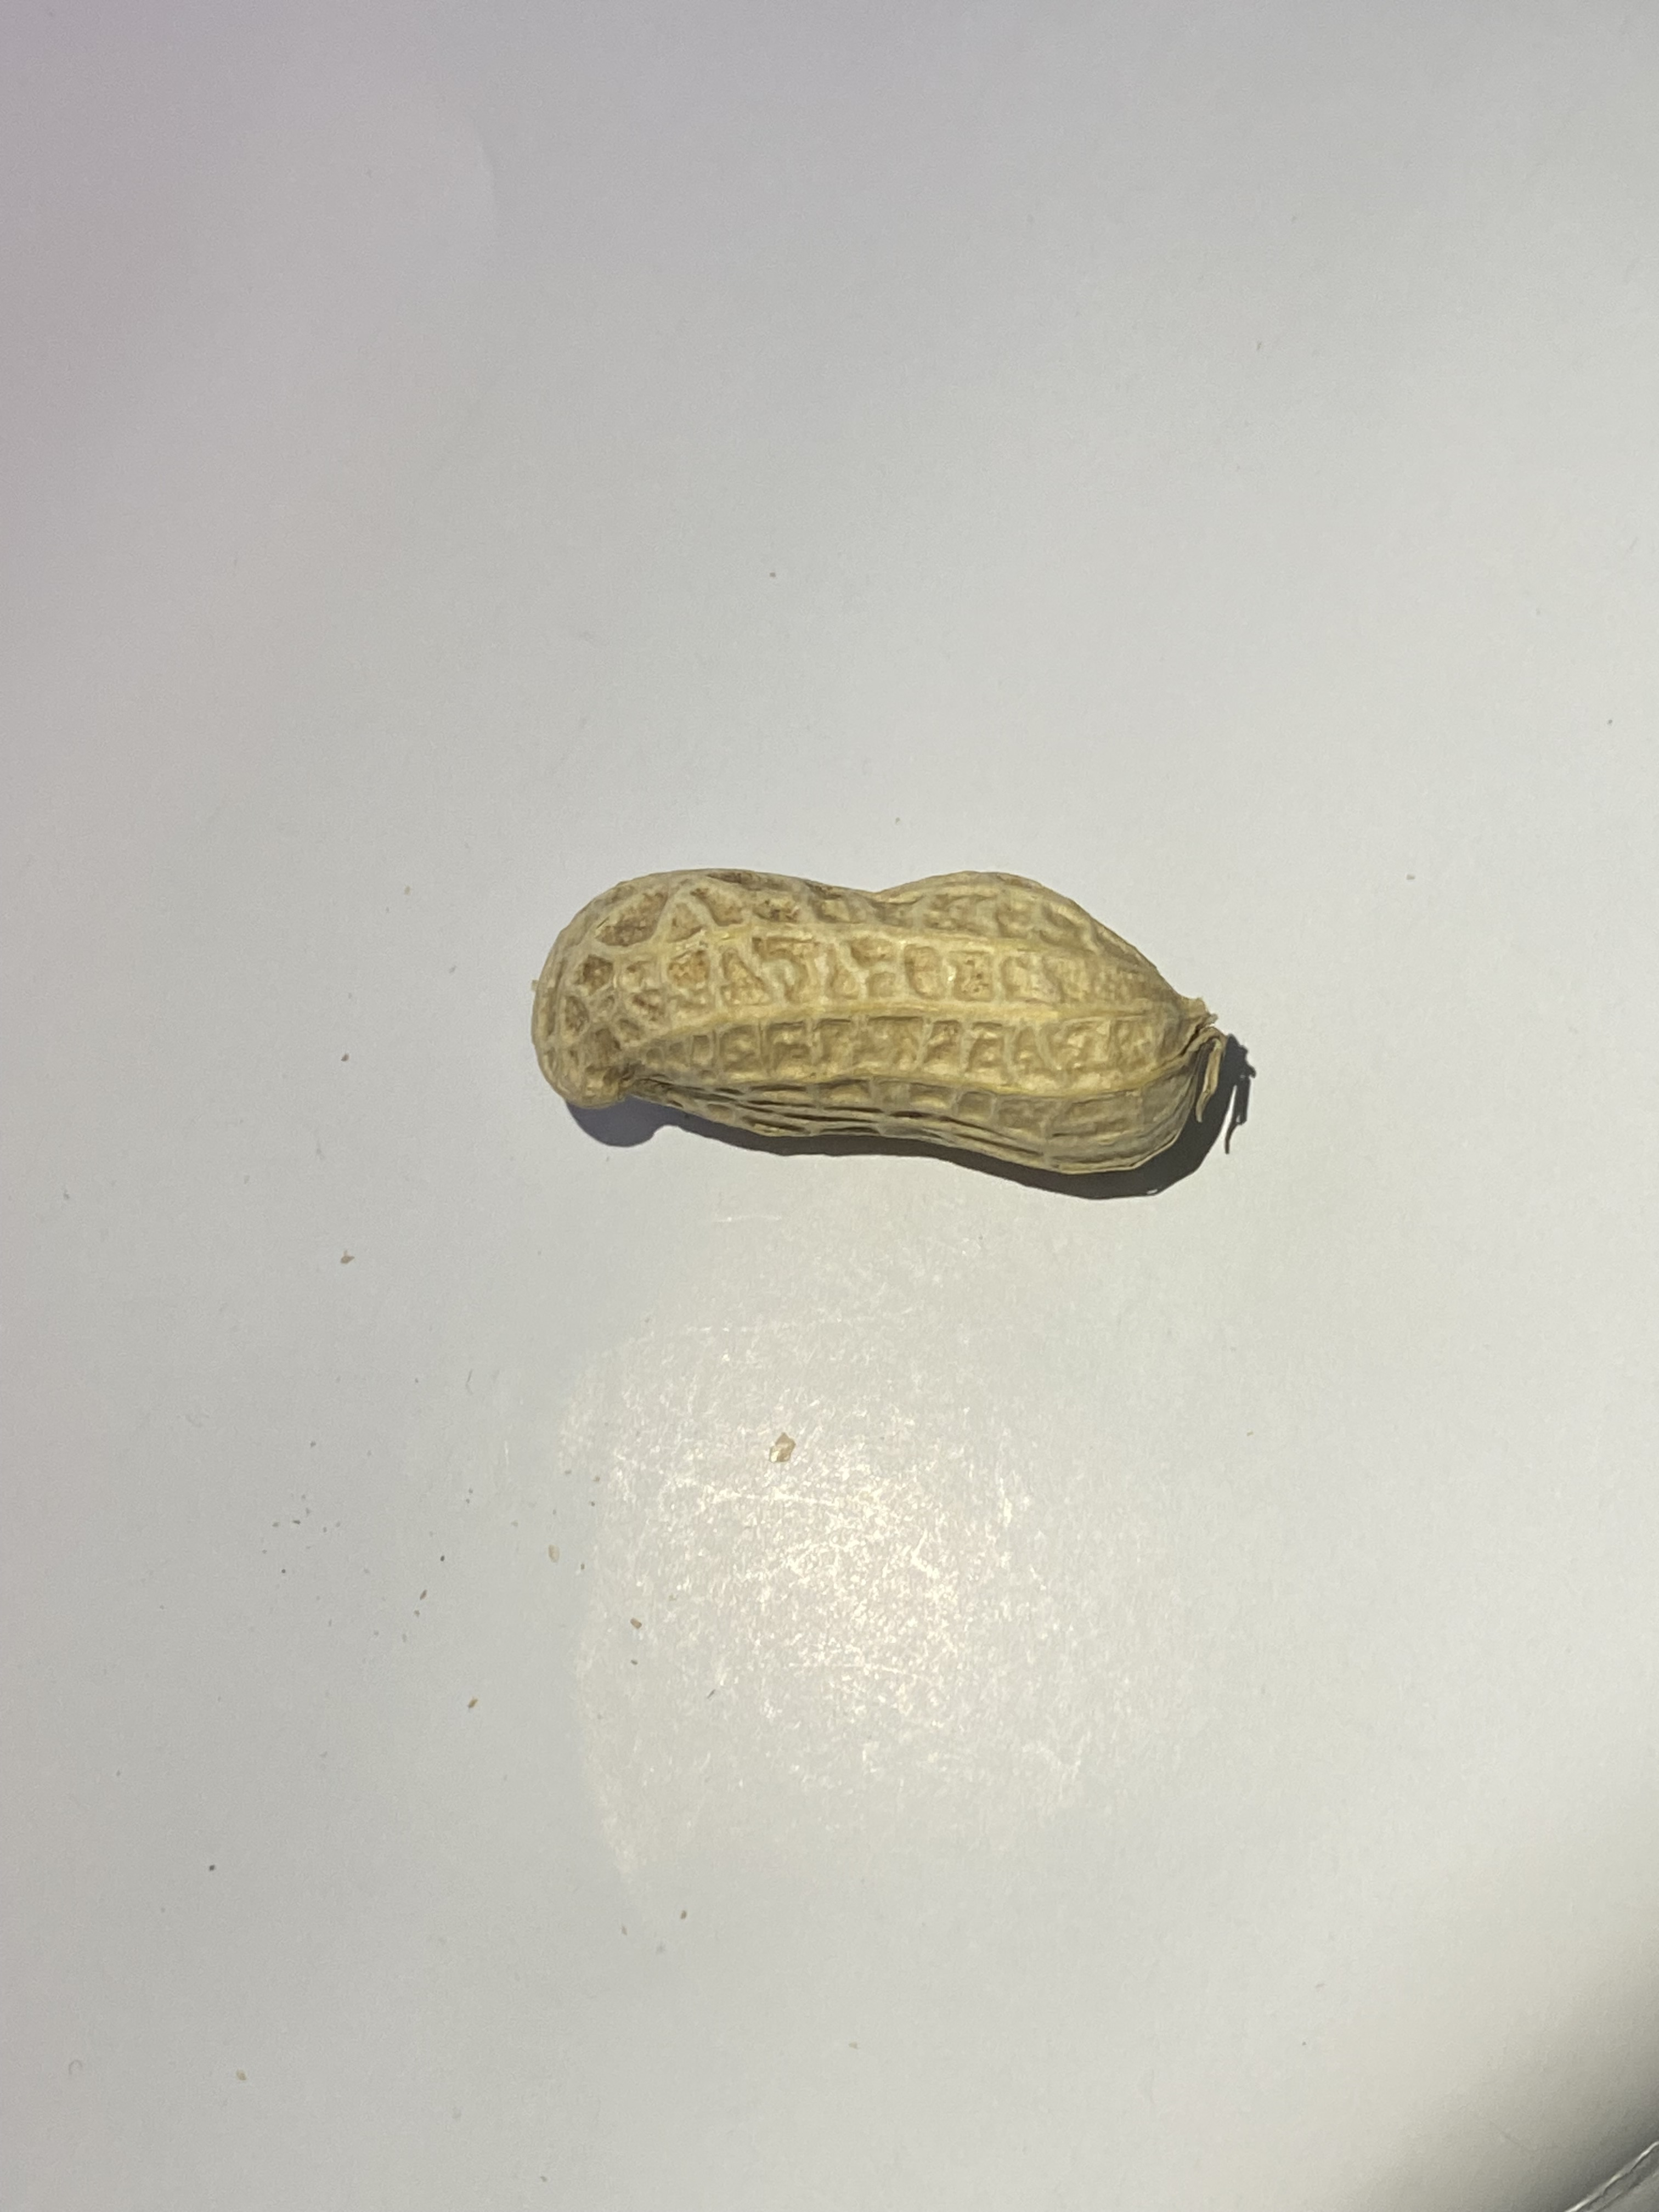kacang2: (498, 834, 1290, 1216)
